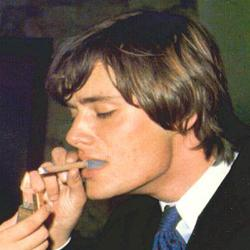cigarro: (37, 161, 94, 176)
fumador: (16, 19, 224, 233)
